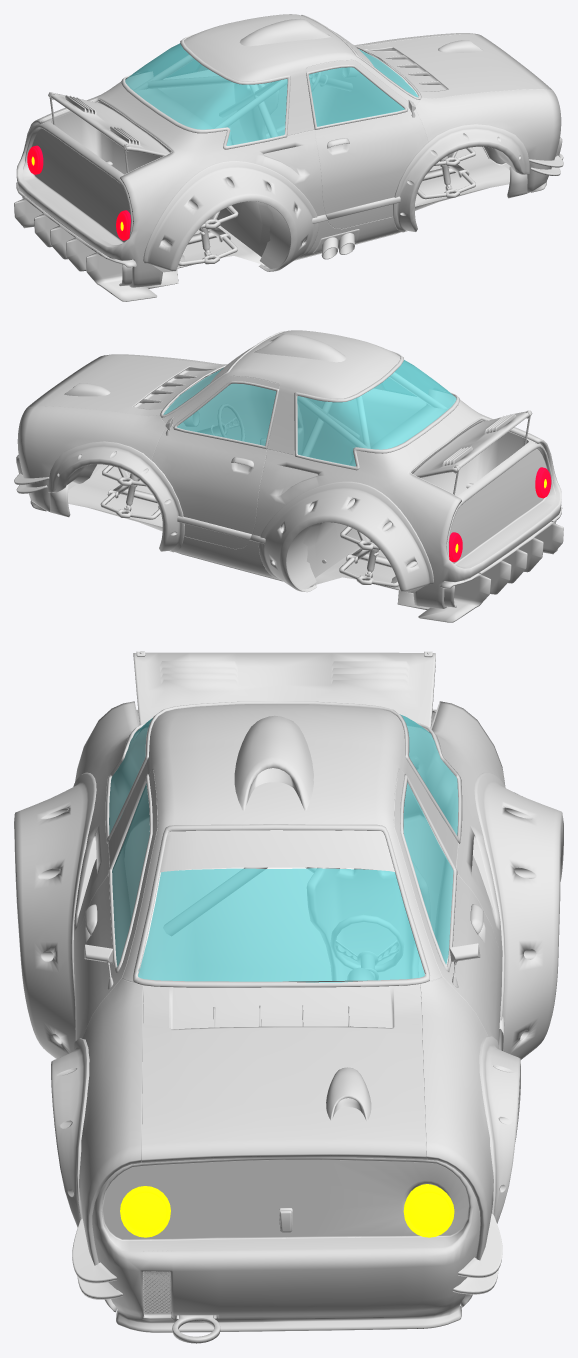
The model's file is Car.fbx.
The picture shows the model from 3 angles, top to bottom: view 1: azimuth 30°, elevation 25°; view 2: azimuth 150°, elevation 25°; view 3: azimuth 270°, elevation 25°; orthographic projection. The views are drawn at different scales.
Parts seen in each view (by area): view 1: Cube.001_0, Cube.004_0, Cube.002_0, Cube.000_0, Cube.000_0.003, Cube.001_0.005, Cube.000_0.001; view 2: Cube.001_0, Cube.004_0, Cube.002_0, Cube.000_0, Cube.000_0.002, Cube.001_0.005, Cube.000_0.001; view 3: Cube.001_0, Cube.004_0, Cube.002_0, Cube.000_0.001, Cube.000_0, Cube.000_0.002, Cube.000_0.003, Cube.001_0.003, Cube.001_0.002.
Part boxes in pixels (box(x1,y1,x2,y2)): Cube.001_0: box(16, 14, 563, 287); Cube.004_0: box(14, 58, 562, 301); Cube.002_0: box(126, 49, 418, 145); Cube.000_0: box(125, 43, 287, 145); Cube.000_0.003: box(309, 67, 404, 126); Cube.001_0.005: box(27, 145, 130, 240); Cube.000_0.001: box(359, 49, 418, 97); Cube.001_0: box(14, 330, 561, 608); Cube.004_0: box(16, 386, 563, 622); Cube.002_0: box(163, 369, 455, 465); Cube.000_0: box(297, 360, 456, 466); Cube.000_0.002: box(176, 383, 276, 445); Cube.001_0.005: box(449, 467, 551, 562); Cube.000_0.001: box(163, 368, 223, 414); Cube.001_0: box(14, 651, 563, 1343); Cube.004_0: box(92, 709, 480, 1332); Cube.002_0: box(109, 726, 457, 980); Cube.000_0.001: box(138, 868, 424, 982); Cube.000_0: box(109, 714, 458, 835); Cube.000_0.002: box(403, 782, 453, 964); Cube.000_0.003: box(112, 783, 149, 966); Cube.001_0.003: box(403, 1184, 454, 1237); Cube.001_0.002: box(120, 1186, 170, 1237).
Size of the model in its own units: 1076 by 423 by 534.
